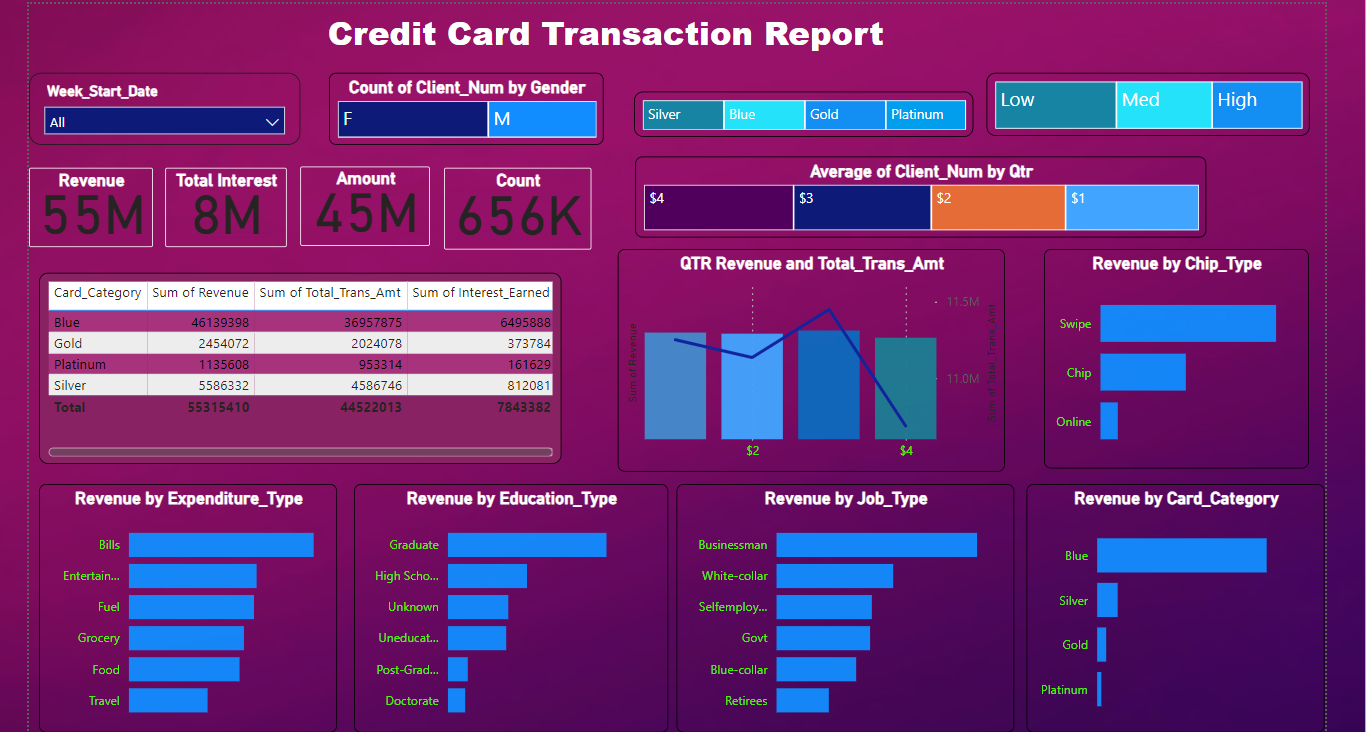

The dashboard page shown, as its layout file describes it:
{"tool":"powerbi","page":{"name":"Credit card transaction","canvas":[1280,720],"ordinal":1},"visuals":[{"type":"textbox","box":[12.1,13.3,523.6,54.3],"z":0},{"type":"lineStackedColumnComboChart","title":"QTR  Revenue and Total_Trans_Amt ","fields":{"Category":["credit_card.Qtr"],"Y":["Sum(credit_card.Revenue)"],"Y2":["Sum(credit_card.Total_Trans_Amt)"]},"box":[566.7,75.5,400.7,329.3],"z":1000},{"type":"barChart","title":" Revenue by Expenditure_Type","fields":{"Y":["Sum(credit_card.Revenue)"],"Category":["credit_card.Exp_Type"]},"box":[0,425.9,301,281],"z":2000},{"type":"barChart","title":" Revenue by Expenditure_Type","fields":{"Y":["Sum(credit_card.Revenue)"],"Category":["customer.Education_Level"]},"box":[312.5,425.9,277.5,281.1],"z":3000},{"type":"barChart","title":" Revenue by Expenditure_Type","fields":{"Y":["Sum(credit_card.Revenue)"],"Category":["customer.Customer_Job"]},"box":[603.2,429.5,323.3,275.1],"z":4000},{"type":"barChart","title":" Revenue by Card_Category","fields":{"Y":["Sum(credit_card.Revenue)"],"Category":["credit_card.Card_Category"]},"box":[1007.4,464.5,259.4,240.1],"z":5000},{"type":"barChart","title":" Revenue by Expenditure_Type","fields":{"Y":["Sum(credit_card.Revenue)"],"Category":["credit_card.Use_Chip"]},"box":[1012.2,255.8,250.9,185.8],"z":6000},{"type":"tableEx","fields":{"Values":["credit_card.Card_Category","Sum(credit_card.Revenue)","Sum(credit_card.Total_Trans_Amt)","Sum(credit_card.Interest_Earned)"]},"box":[12.1,172.5,544.1,232.8],"z":7000},{"type":"card","title":"Revenue","fields":{"Values":["Sum(credit_card.Revenue)"]},"box":[12.1,84.5,117,78.4],"z":8000},{"type":"card","title":"Amount","fields":{"Values":["Sum(credit_card.Total_Trans_Amt)"]},"box":[137.5,84.5,115.8,78.4],"z":9000},{"type":"card","title":"Total Interest","fields":{"Values":["Sum(credit_card.Interest_Earned)"]},"box":[261.8,84.5,156.8,78.4],"z":10000},{"type":"card","title":"Count","fields":{"Values":["Sum(credit_card.Total_Trans_Vol)"]},"box":[428.3,84.5,138.7,78.4],"z":11000},{"type":"slicer","fields":{"Values":["credit_card.Week_Start_Date"]},"box":[1012.7,6.9,267.6,68.6],"z":12000},{"type":"treemap","fields":{"Group":["credit_card.Qtr"],"Values":["Avg(credit_card.Client_Num)"]},"box":[585.9,8.2,391.1,48],"z":13000},{"type":"treemap","fields":{"Group":["customer.Gender"],"Values":["CountNonNull(customer.Client_Num)"]},"box":[1019.4,84.5,250.9,50.7],"z":14000},{"type":"treemap","fields":{"Group":["credit_card.Card_Category"],"Values":["Avg(customer.Client_Num)"]},"box":[1019.4,141.2,252.1,45.8],"z":16000},{"type":"treemap","fields":{"Group":["customer.IncomeGroup"],"Values":["CountNonNull(customer.Client_Num)"]},"box":[1019.4,197.9,250.9,42.2],"z":17000}]}

Visuals, with their boxes on the page's 1280x720 design canvas (x1, y1, x2, y2). These are canvas units, not pixel positions in the 1366x732 screenshot, which may show the page scaled, cropped or inside an application window:
textbox: {"left": 12, "top": 13, "right": 536, "bottom": 68}
"QTR  Revenue and Total_Trans_Amt " lineStackedColumnComboChart: {"left": 567, "top": 76, "right": 967, "bottom": 405}
" Revenue by Expenditure_Type" barChart: {"left": 0, "top": 426, "right": 301, "bottom": 707}
" Revenue by Expenditure_Type" barChart: {"left": 312, "top": 426, "right": 590, "bottom": 707}
" Revenue by Expenditure_Type" barChart: {"left": 603, "top": 430, "right": 926, "bottom": 705}
" Revenue by Card_Category" barChart: {"left": 1007, "top": 464, "right": 1267, "bottom": 705}
" Revenue by Expenditure_Type" barChart: {"left": 1012, "top": 256, "right": 1263, "bottom": 442}
tableEx - credit_card.Card_Category x Sum(credit_card.Revenue): {"left": 12, "top": 172, "right": 556, "bottom": 405}
"Revenue" card: {"left": 12, "top": 84, "right": 129, "bottom": 163}
"Amount" card: {"left": 138, "top": 84, "right": 253, "bottom": 163}
"Total Interest" card: {"left": 262, "top": 84, "right": 419, "bottom": 163}
"Count" card: {"left": 428, "top": 84, "right": 567, "bottom": 163}
slicer - credit_card.Week_Start_Date: {"left": 1013, "top": 7, "right": 1280, "bottom": 76}
treemap - credit_card.Qtr x Avg(credit_card.Client_Num): {"left": 586, "top": 8, "right": 977, "bottom": 56}
treemap - customer.Gender x CountNonNull(customer.Client_Num): {"left": 1019, "top": 84, "right": 1270, "bottom": 135}
treemap - credit_card.Card_Category x Avg(customer.Client_Num): {"left": 1019, "top": 141, "right": 1272, "bottom": 187}
treemap - customer.IncomeGroup x CountNonNull(customer.Client_Num): {"left": 1019, "top": 198, "right": 1270, "bottom": 240}
